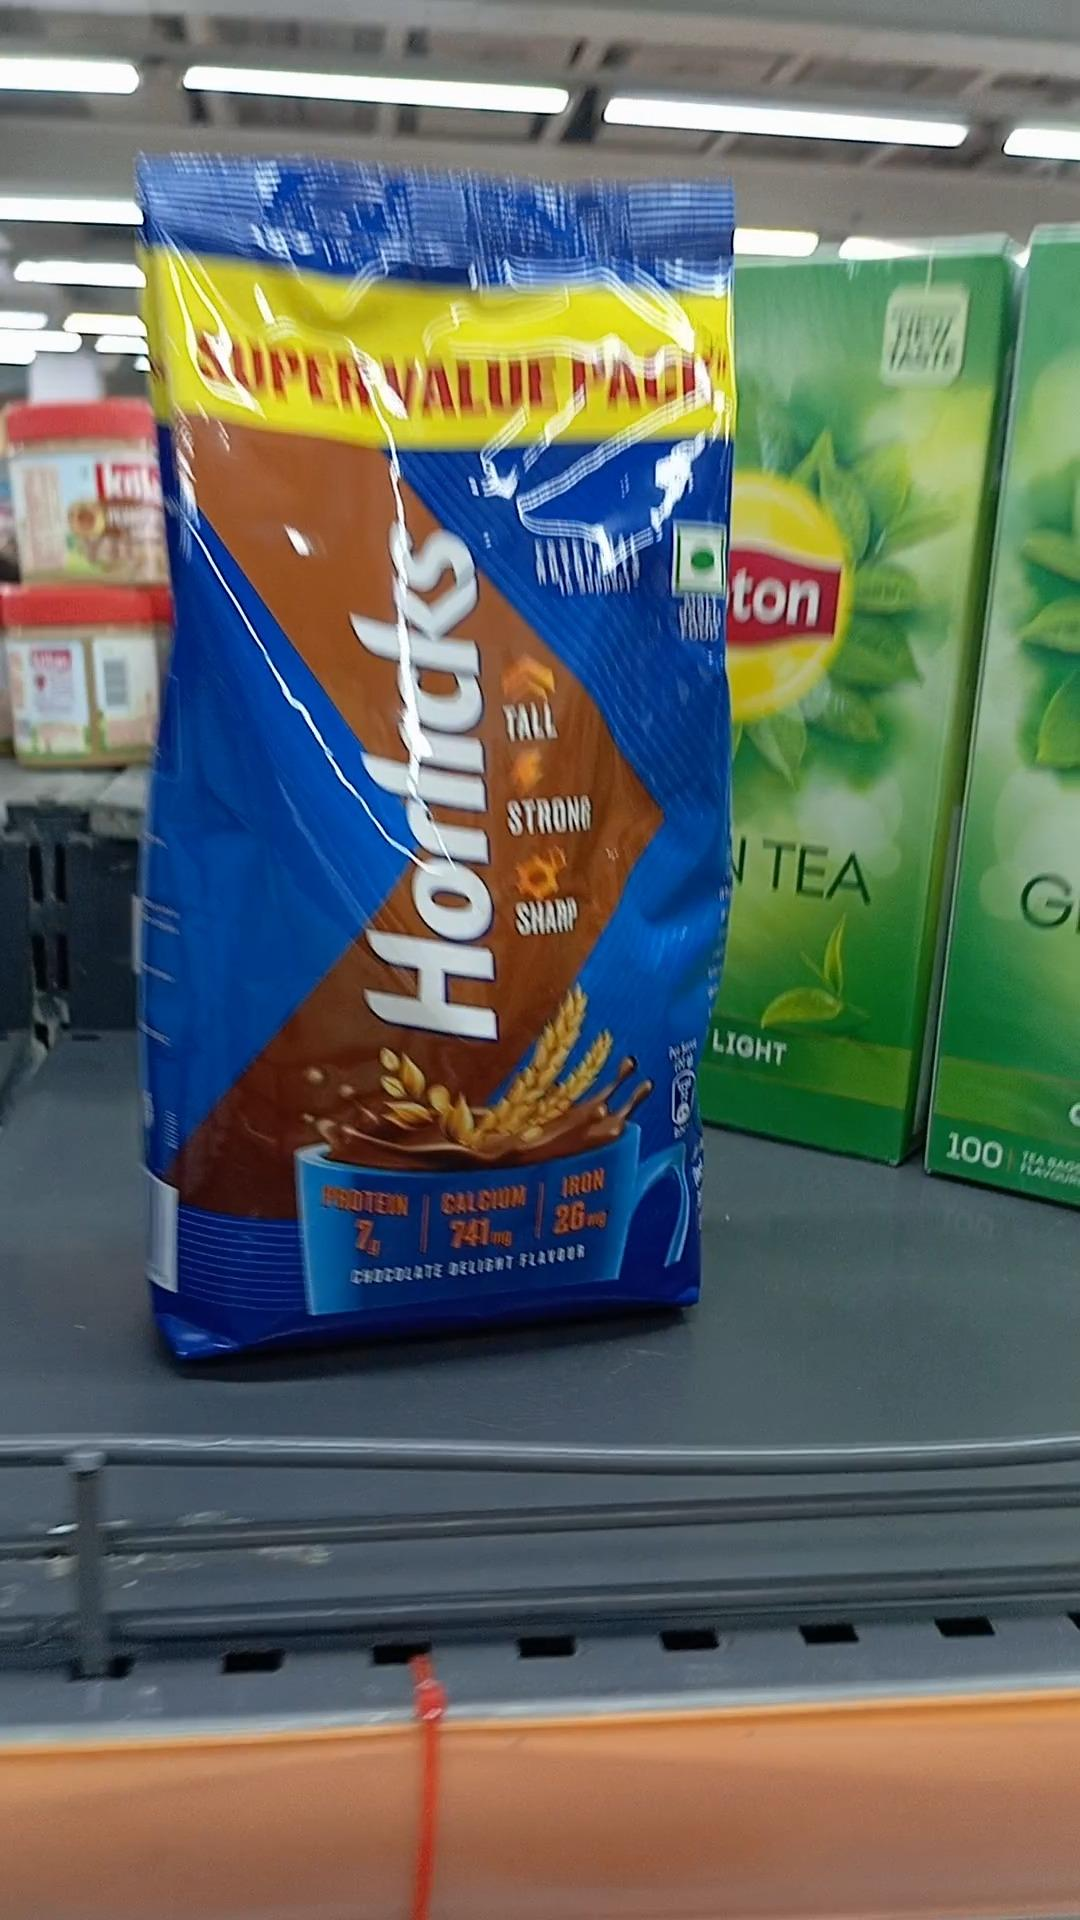HORLICK_CHOCOLATE_750_G_POUCH: (154, 154, 712, 1346)
